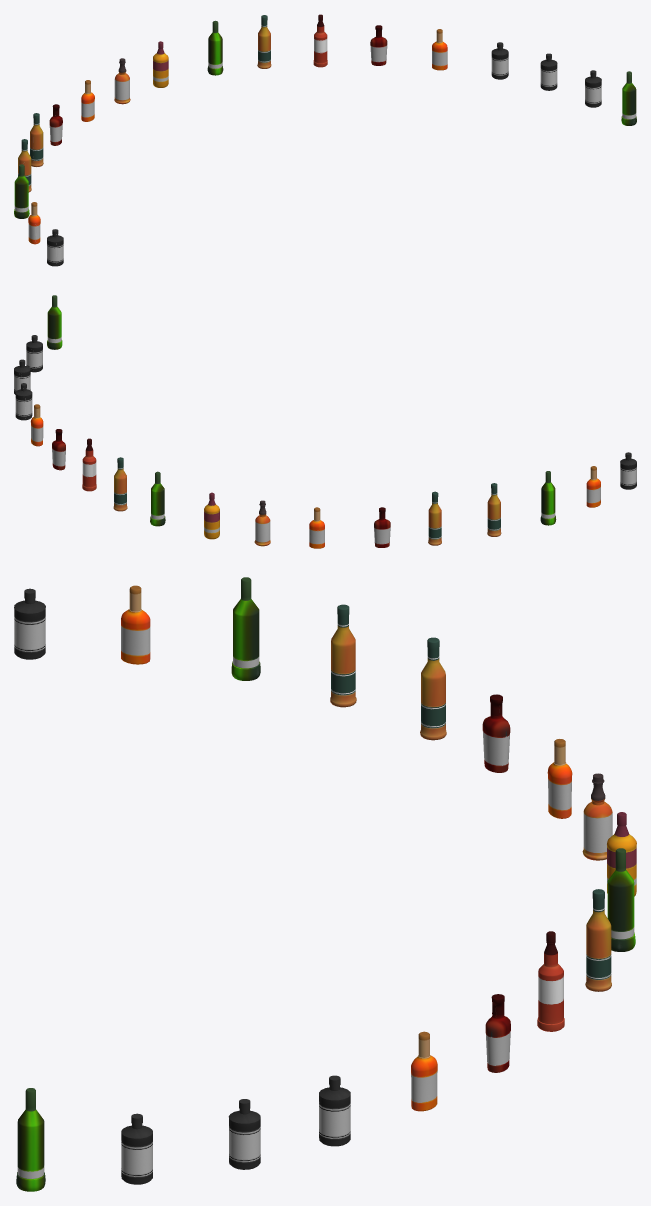
The model's file is Bottles01_12.FBX.
3 views of the same model, one above another, from view 1: azimuth 30°, elevation 25°; view 2: azimuth 150°, elevation 25°; view 3: azimuth 270°, elevation 25° (orthographic). The views are drawn at different scales.
Parts seen in each view (by area): view 1: Bottles01_12; view 2: Bottles01_12; view 3: Bottles01_12.
Boxes of the visible parts, bbox=[...] form: Bottles01_12: bbox=[14, 14, 636, 266]; Bottles01_12: bbox=[14, 295, 636, 548]; Bottles01_12: bbox=[14, 577, 636, 1191].
Size of the model in its own units: 373 by 30.73 by 180.
